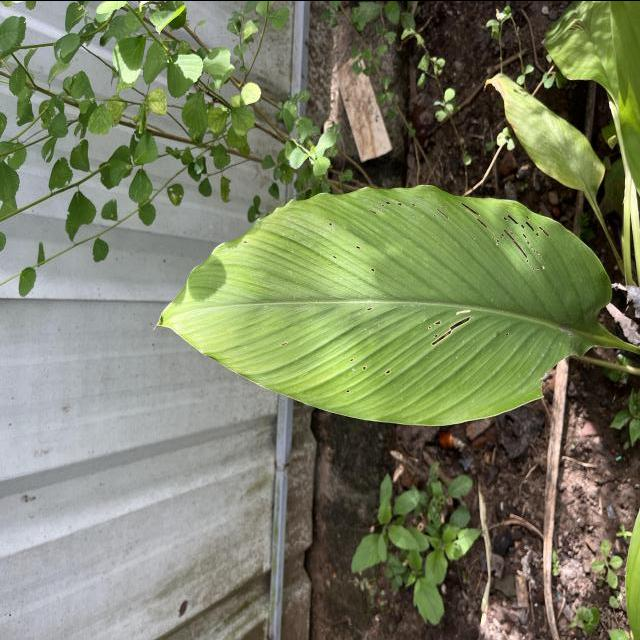Curcuma longa: (147, 182, 616, 432)
